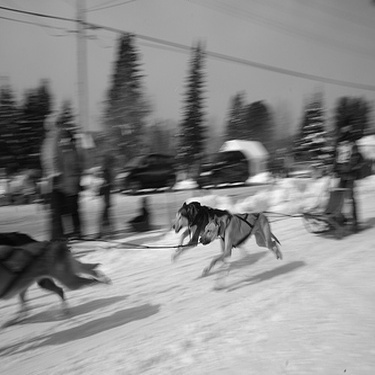dog: (1, 231, 120, 327), (134, 190, 248, 273), (189, 206, 296, 289), (1, 221, 85, 320)
